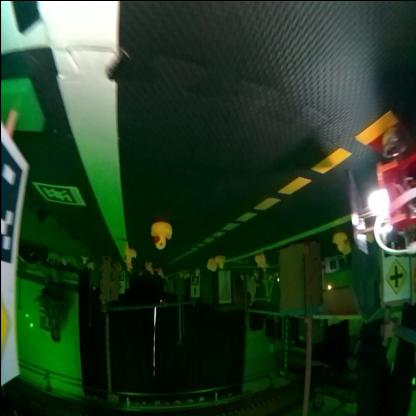Duckie: (152, 222, 172, 249), (333, 234, 347, 250), (125, 249, 136, 261), (256, 254, 265, 266), (207, 258, 216, 270), (217, 256, 225, 268), (144, 262, 150, 270)
Duckiebot: (347, 131, 415, 250)
Intersection sign: (383, 258, 409, 296)
QR code: (35, 184, 84, 204)
